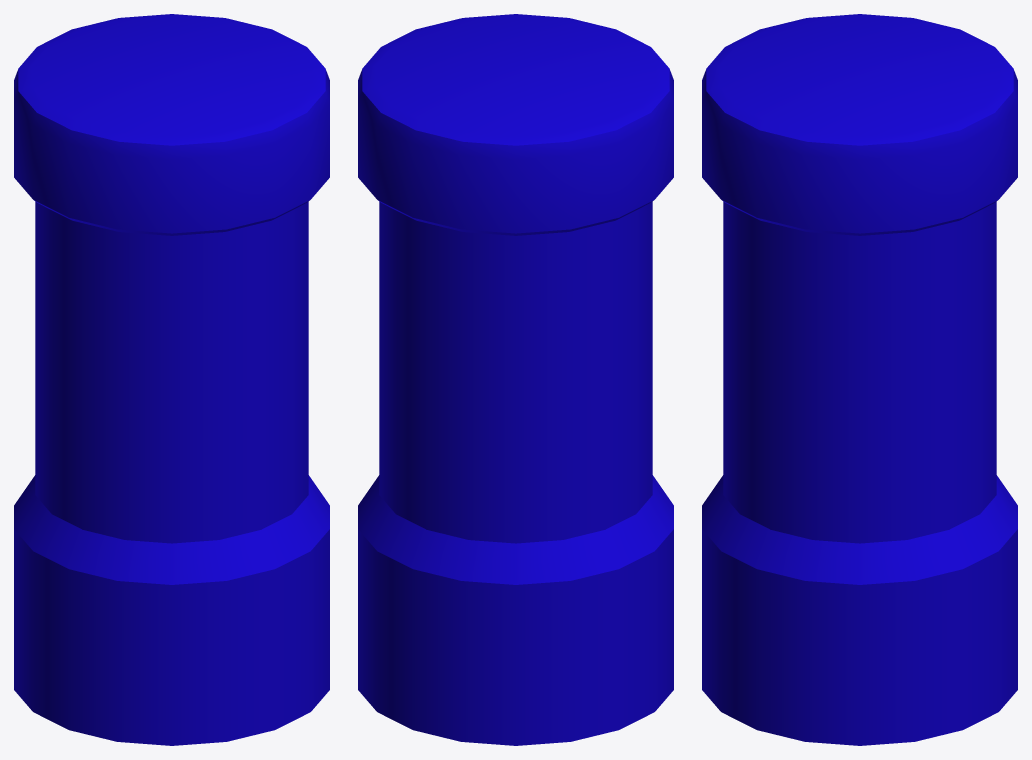
File: SM_Pillar.fbx
The picture shows the model from 3 angles, left to right: view 1: azimuth 30°, elevation 25°; view 2: azimuth 150°, elevation 25°; view 3: azimuth 270°, elevation 25°; orthographic projection.
Visible parts, largest first — view 1: SM_Pillar; view 2: SM_Pillar; view 3: SM_Pillar.
Part boxes in pixels (left/top/right/bottom): SM_Pillar: left=14, top=14, right=329, bottom=745; SM_Pillar: left=358, top=14, right=673, bottom=745; SM_Pillar: left=702, top=14, right=1017, bottom=745.
Bounding box in the file's own units: 150 × 311 × 148.
